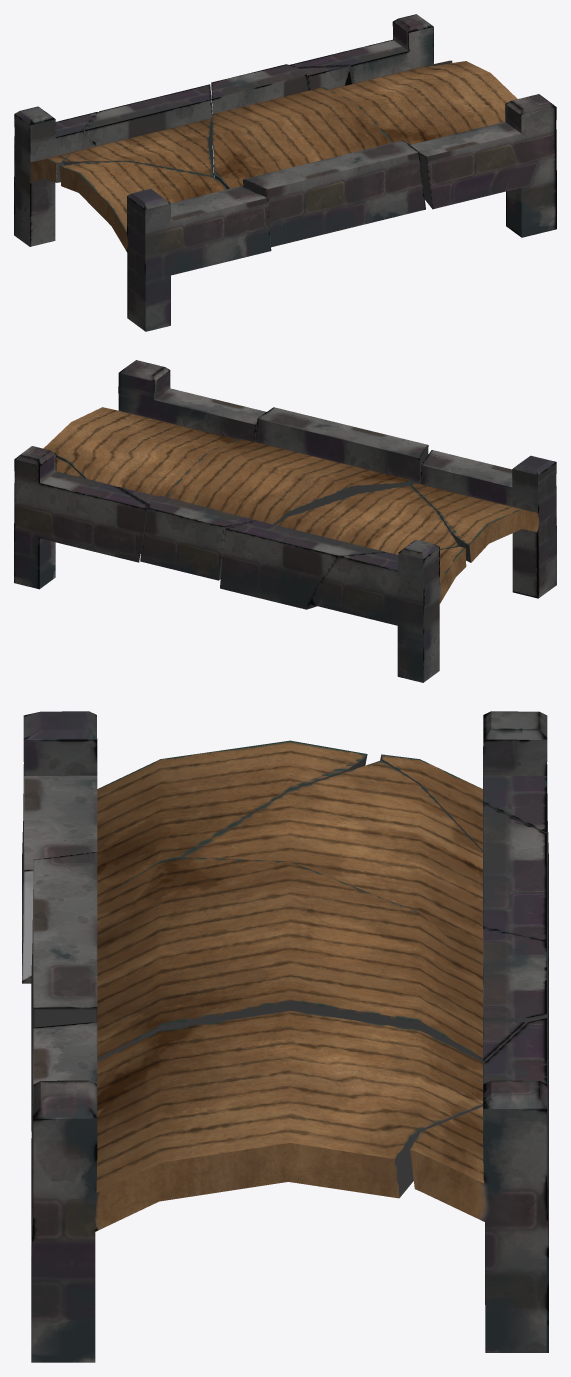
The model's file is pont2.fbx.
3 renders of one model, top to bottom at view 1: azimuth 30°, elevation 25°; view 2: azimuth 150°, elevation 25°; view 3: azimuth 270°, elevation 25°, orthographic. The views are drawn at different scales.
Visible parts, largest first — view 1: pont_cell.009, pont_cell.011, pont_cell.010, pont_cell.007, pont_cell.008, pont_cell.006; view 2: pont_cell.009, pont_cell.011, pont_cell.007, pont_cell.010, pont_cell.006, pont_cell.008; view 3: pont_cell.011, pont_cell.009, pont_cell.007, pont_cell.010, pont_cell.006, pont_cell.008.
Part boxes in pixels (x1=…): pont_cell.009: x1=211, y1=64, x2=425, y2=247; pont_cell.011: x1=298, y1=61, x2=556, y2=237; pont_cell.010: x1=59, y1=161, x2=271, y2=331; pont_cell.007: x1=62, y1=84, x2=213, y2=177; pont_cell.008: x1=14, y1=106, x2=97, y2=246; pont_cell.006: x1=290, y1=14, x2=452, y2=83; pont_cell.009: x1=140, y1=407, x2=428, y2=580; pont_cell.011: x1=43, y1=360, x2=266, y2=553; pont_cell.007: x1=220, y1=485, x2=458, y2=609; pont_cell.010: x1=411, y1=450, x2=556, y2=598; pont_cell.006: x1=14, y1=446, x2=147, y2=589; pont_cell.008: x1=308, y1=539, x2=466, y2=682; pont_cell.011: x1=31, y1=1010, x2=525, y2=1362; pont_cell.009: x1=31, y1=851, x2=548, y2=1131; pont_cell.007: x1=183, y1=760, x2=548, y2=1046; pont_cell.010: x1=22, y1=711, x2=367, y2=983; pont_cell.006: x1=410, y1=1018, x2=548, y2=1352; pont_cell.008: x1=380, y1=711, x2=548, y2=970.
Size of the model in its own units: 52.6 by 15.26 by 29.04.
